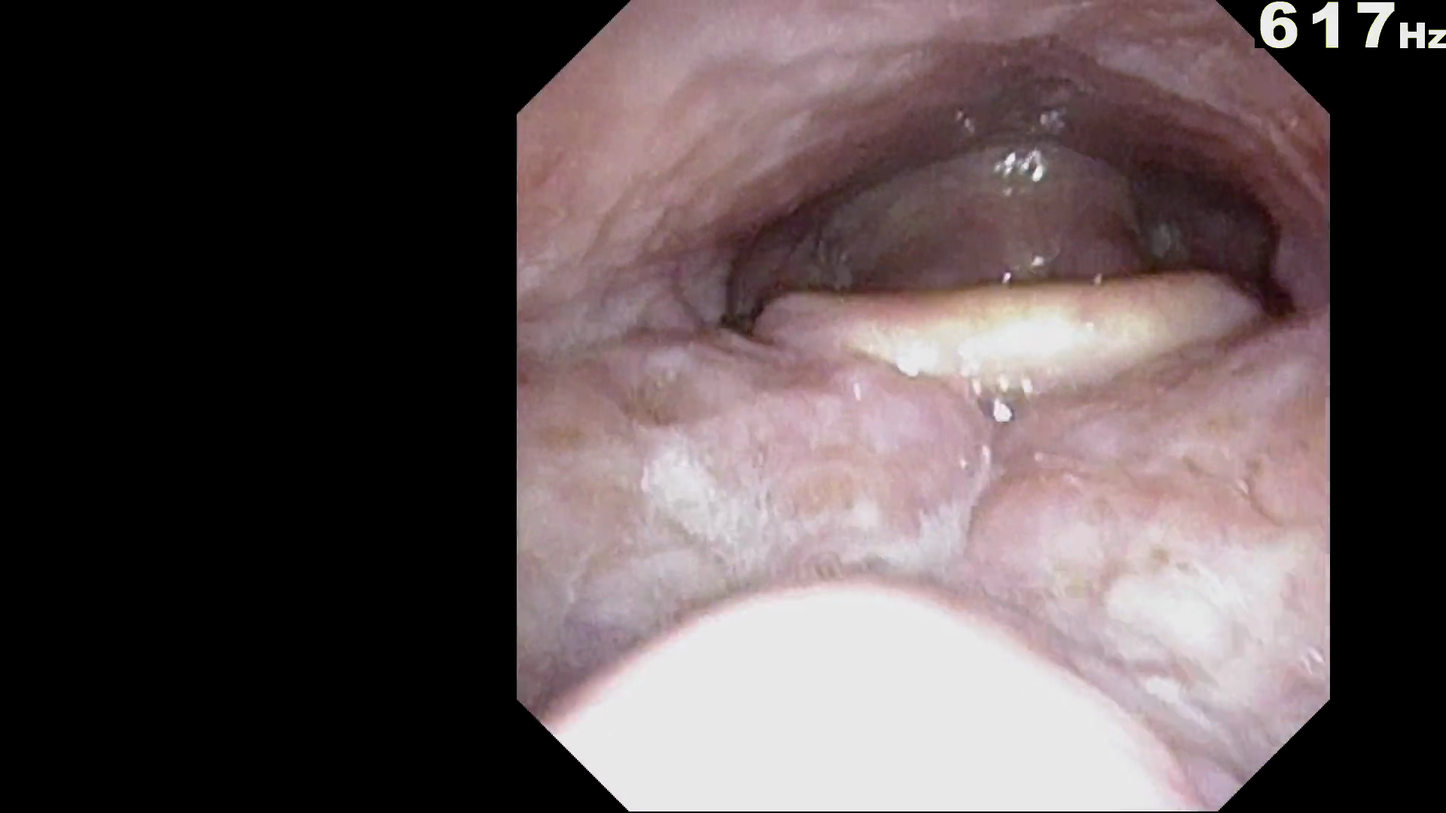epiglottis: (772, 262, 1247, 409)
